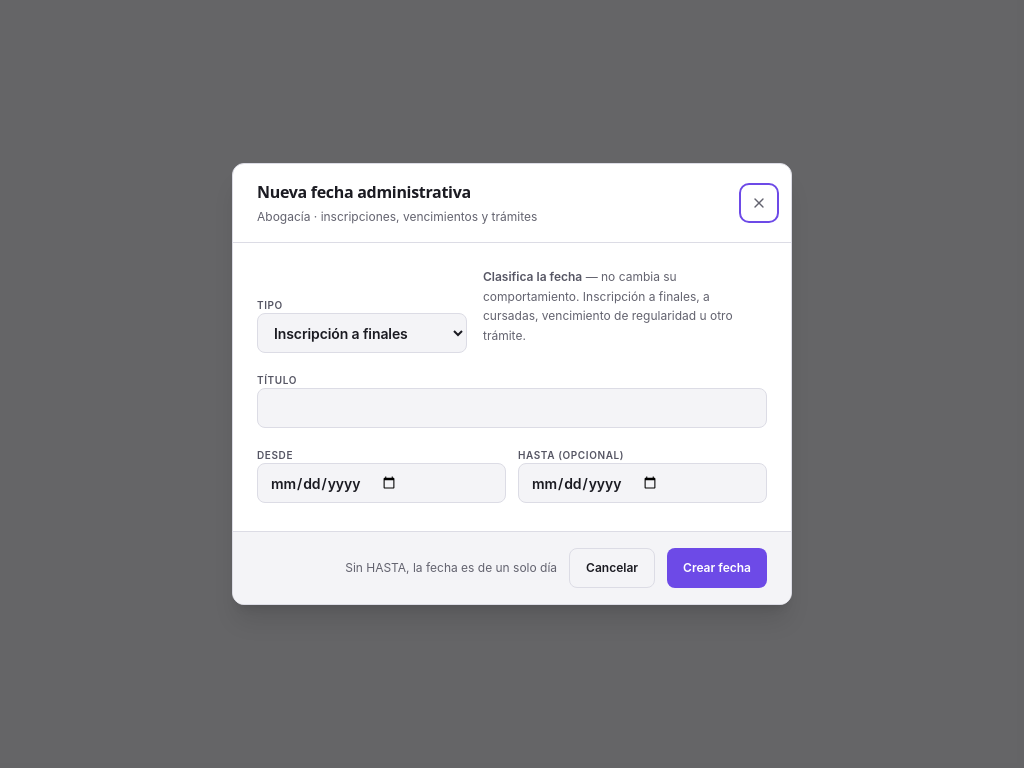
Test: NuevaFechaModal (approved design: "Nueva fecha administrativa") › refuses an empty title with the app own copy, not a machine key
Type "2026-12-01" into the date field labelled "DESDE" at (382, 483), box left=257, top=463, right=506, bottom=503
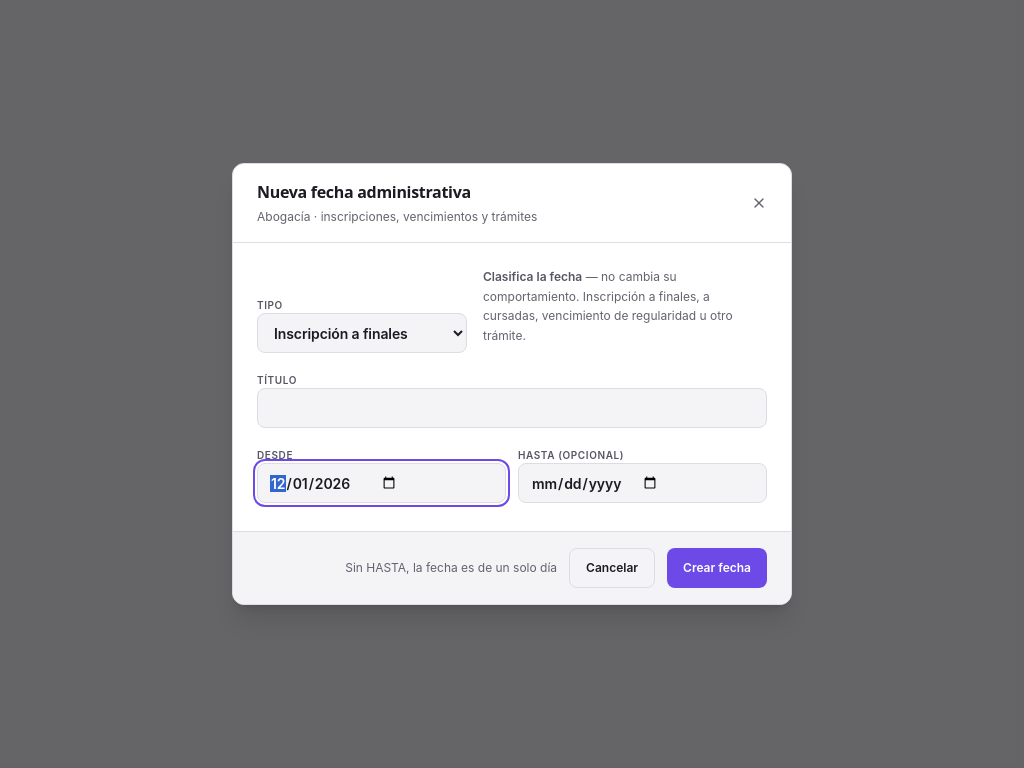
Click the button "Crear fecha" at (717, 568), box left=667, top=548, right=767, bottom=588
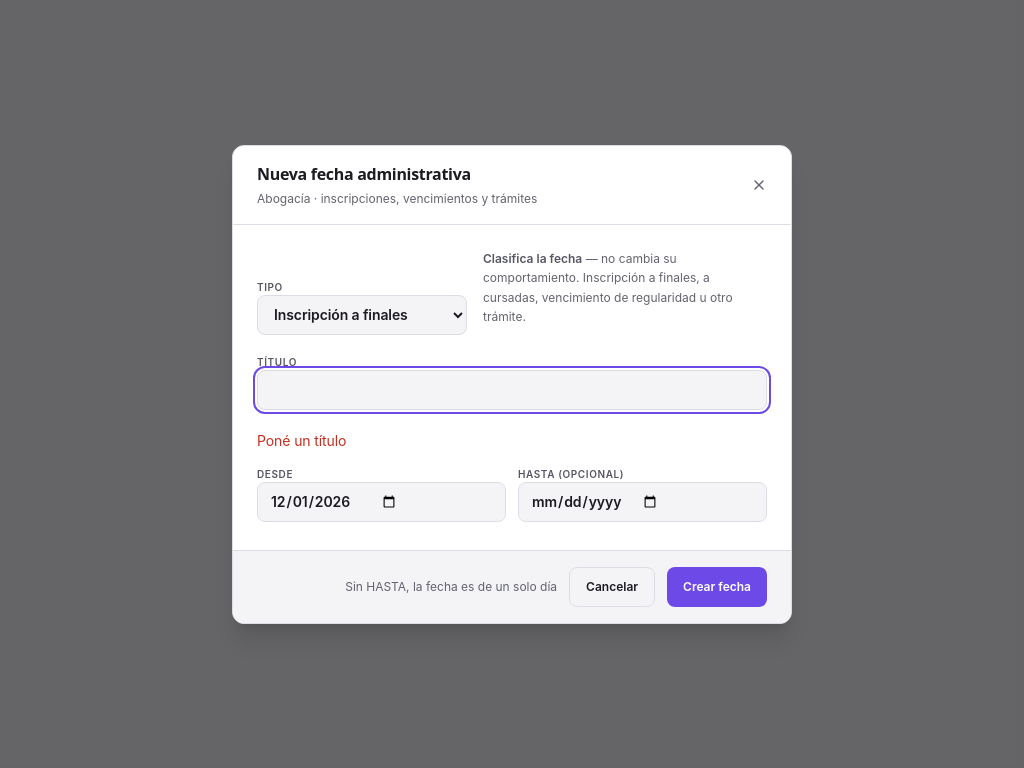
Result: the text "Poné un título" is shown at left=257, top=432, right=346, bottom=448
